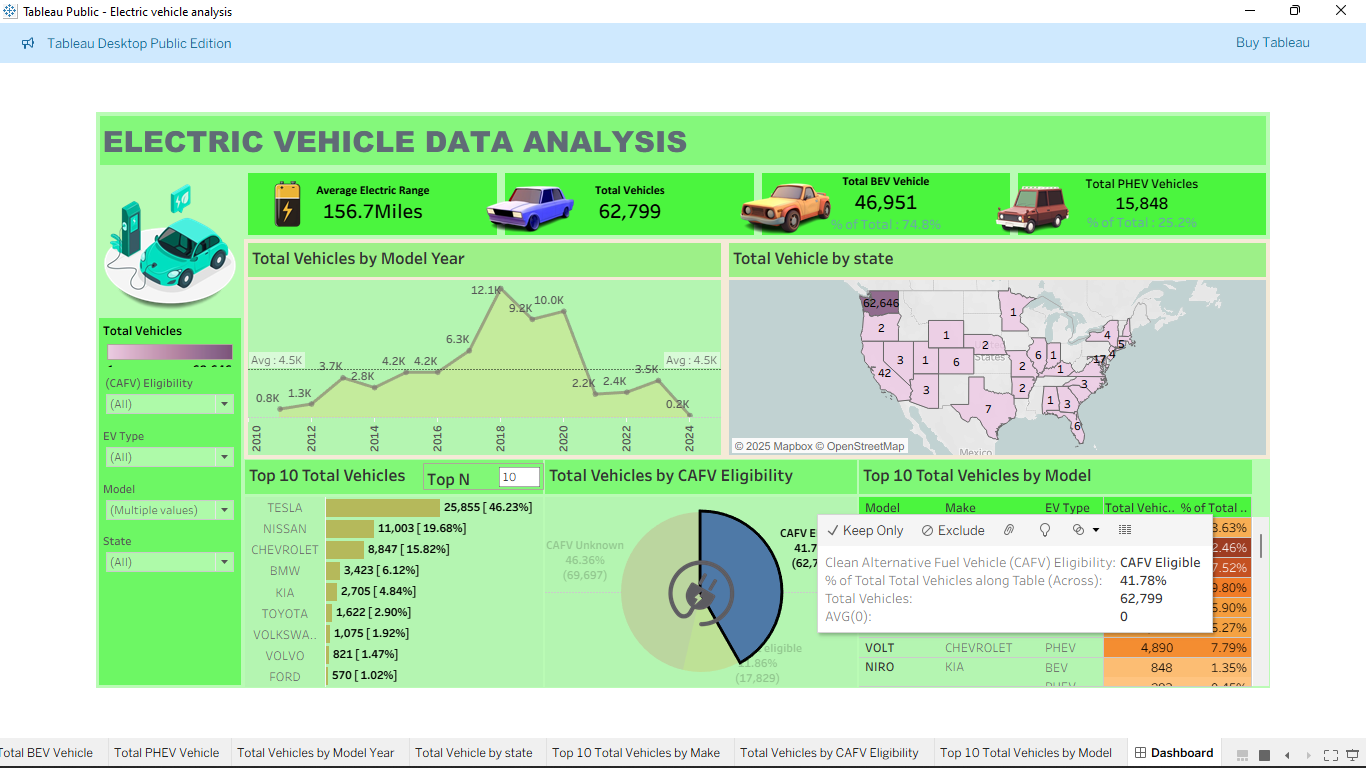

The dashboard page shown, as its layout file describes it:
{"tool":"tableau","page":{"name":"Dashboard","canvas":[1176,578],"ordinal":0},"visuals":[{"type":"title","box":[1,1,1174,57.4]},{"type":"image","param":"D:/POWERBI/icons/Жигули-removebg-preview.png","box":[334,28,206,125]},{"type":"image","param":"D:/POWERBI/icons/미드저니_프롬프트___-removebg-preview.png","box":[605,39,172,111]},{"type":"image","param":"D:/POWERBI/icons/Low_poly_Car_01-removebg-preview.png","box":[844,43,190,114]},{"type":"image","param":"D:/POWERBI/icons/Battery_vector-removebg-preview.png","box":[146,50,92,86]},{"type":"worksheet","title":"Average Electric Range","mark":"Automatic","box":[149,58,257,70]},{"type":"worksheet","title":"Total Vehicles","mark":"Automatic","box":[406,58,257,70]},{"type":"worksheet","title":"Total BEV Vehicle ","mark":"Automatic","box":[663,58,256,70]},{"type":"worksheet","title":"Total PHEV Vehicle","mark":"Automatic","box":[919,58,256,70]},{"type":"image","param":"D:/POWERBI/icons/Free_Vector___Electric_car_concept_illustration-removebg-previe","box":[1,58.4,148,145.6]},{"type":"worksheet","title":"Total Vehicles by Model Year","mark":"Line","rows":["Calculation_1005147195562500096","Calculation_1005147195562500096"],"cols":["Model Year"],"box":[149,128.1,481,219.9]},{"type":"worksheet","title":"Total Vehicle by state","mark":"Multipolygon","box":[630,128.1,545,219.9]},{"type":"legend","title":"Total Vehicle by state","param":"[federated.1dx35o3062qynq1dru3qi1caghq3].[usr:Calculation_1005147195562500096:qk","box":[4,207,142,53]},{"type":"filter","title":"Total Vehicles by Model Year","param":"[federated.1dx35o3062qynq1dru3qi1caghq3].[none:Clean Alternative Fuel Vehicle (C","box":[4,260,142,53]},{"type":"filter","title":"Total Vehicles by Model Year","param":"[federated.1dx35o3062qynq1dru3qi1caghq3].[none:Electric Vehicle Type:nk]","box":[4,313,142,53]},{"type":"worksheet","title":"Top 10 Total Vehicles by Make","mark":"Automatic","rows":["Make"],"cols":["Calculation_1005147195562500096"],"box":[149,348,300,229]},{"type":"worksheet","title":"Total Vehicles by CAFV Eligibility","mark":"Pie","rows":["Calculation_333547901182341121","Calculation_333547901182341121"],"box":[449,348,314,229]},{"type":"worksheet","title":"Top 10 Total Vehicles by Model","mark":"Square","rows":["Model","Make","Electric Vehicle Type"],"box":[763,348,412,229]},{"type":"parameter","param":"[Parameters].[Parameter 2]","box":[328,352,121,27]},{"type":"filter","title":"Total Vehicles by Model Year","param":"[federated.1dx35o3062qynq1dru3qi1caghq3].[none:Model:nk]","box":[4,366,142,52]},{"type":"image","param":"D:/POWERBI/icons/Baixar_projeto_do_vetor_do_símbolo_do_ícone_do_soquete_do_plugu","box":[531,394,150,177]},{"type":"filter","title":"Total Vehicles by Model Year","param":"[federated.1dx35o3062qynq1dru3qi1caghq3].[none:State:nk]","box":[4,418,142,52]},{"type":"blank","box":[4,470,142,52]},{"type":"blank","box":[4,522,142,52]}]}

Visuals, with their boxes on the page's 1176x578 design canvas (x1, y1, x2, y2). These are canvas units, not pixel positions in the 1366x768 screenshot, which may show the page scaled, cropped or inside an application window:
title: BBox(1, 1, 1175, 58)
image: BBox(334, 28, 540, 153)
image: BBox(605, 39, 777, 150)
image: BBox(844, 43, 1034, 157)
image: BBox(146, 50, 238, 136)
"Average Electric Range" worksheet: BBox(149, 58, 406, 128)
"Total Vehicles" worksheet: BBox(406, 58, 663, 128)
"Total BEV Vehicle " worksheet: BBox(663, 58, 919, 128)
"Total PHEV Vehicle" worksheet: BBox(919, 58, 1175, 128)
image: BBox(1, 58, 149, 204)
"Total Vehicles by Model Year" worksheet (Line marks): BBox(149, 128, 630, 348)
"Total Vehicle by state" worksheet (Multipolygon marks): BBox(630, 128, 1175, 348)
"Total Vehicle by state" legend: BBox(4, 207, 146, 260)
"Total Vehicles by Model Year" filter: BBox(4, 260, 146, 313)
"Total Vehicles by Model Year" filter: BBox(4, 313, 146, 366)
"Top 10 Total Vehicles by Make" worksheet: BBox(149, 348, 449, 577)
"Total Vehicles by CAFV Eligibility" worksheet (Pie marks): BBox(449, 348, 763, 577)
"Top 10 Total Vehicles by Model" worksheet (Square marks): BBox(763, 348, 1175, 577)
parameter: BBox(328, 352, 449, 379)
"Total Vehicles by Model Year" filter: BBox(4, 366, 146, 418)
image: BBox(531, 394, 681, 571)
"Total Vehicles by Model Year" filter: BBox(4, 418, 146, 470)
blank: BBox(4, 470, 146, 522)
blank: BBox(4, 522, 146, 574)
